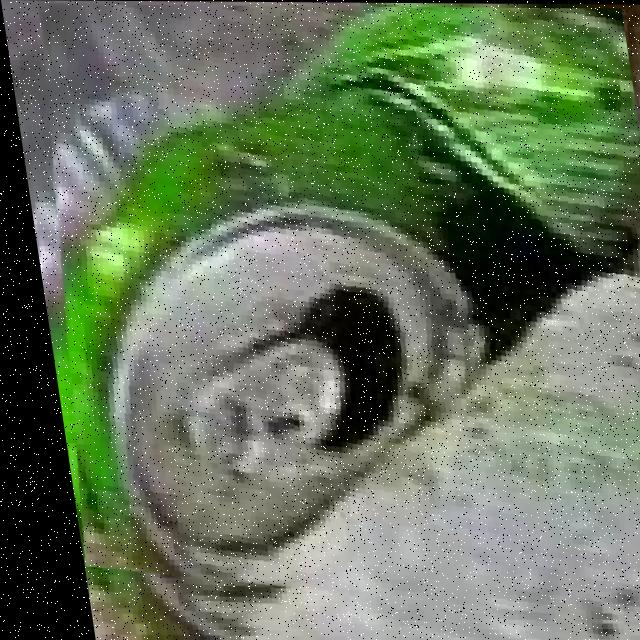litter: (50, 6, 640, 590)
